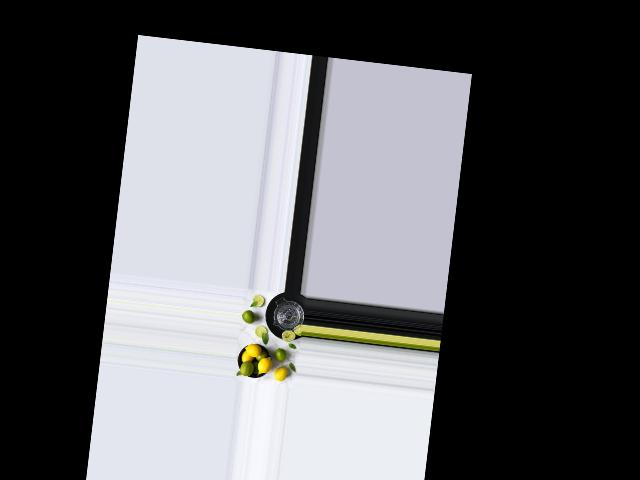lemon: (241, 309, 254, 324)
